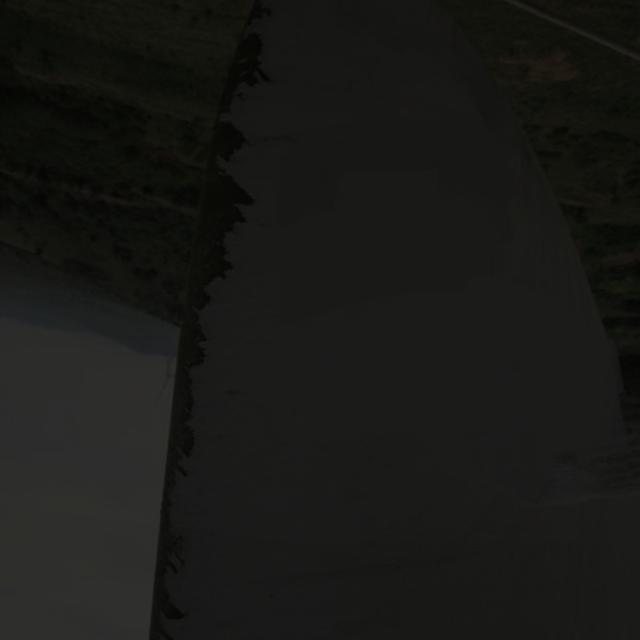corrosion: (182, 11, 266, 322), (150, 331, 202, 632)
